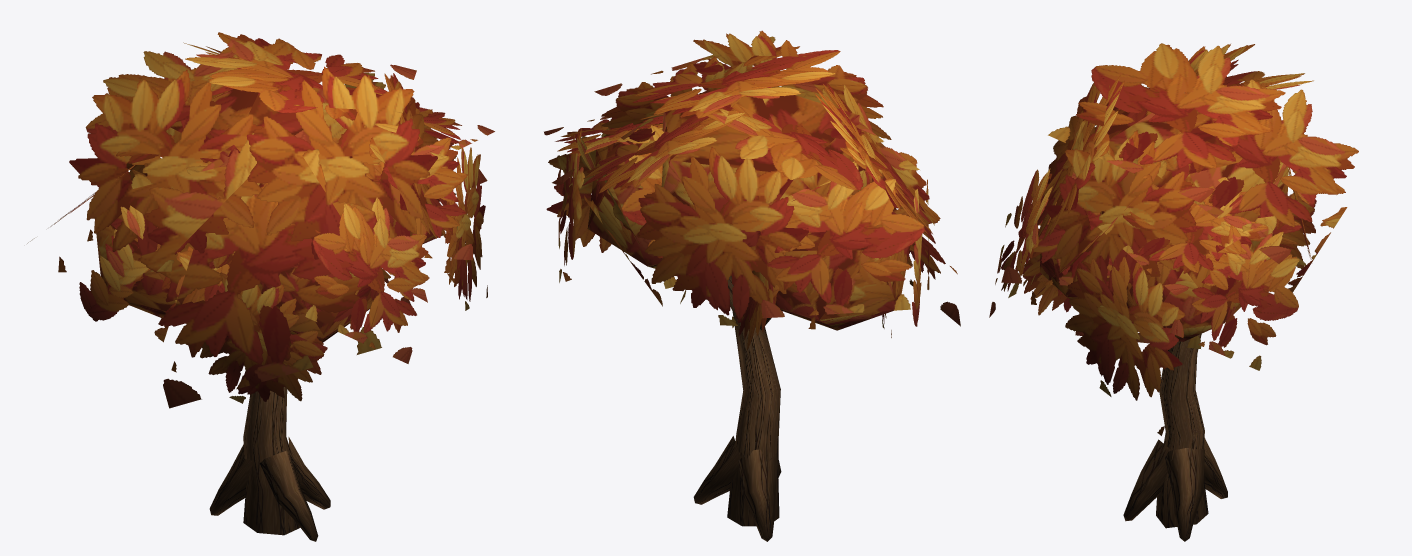
The model's file is tree_autumn_a_lod1.glb.
3 views of the same model, side by side, from view 1: azimuth 30°, elevation 25°; view 2: azimuth 150°, elevation 25°; view 3: azimuth 270°, elevation 25° (orthographic). The views are drawn at different scales.
Visible parts, largest first — view 1: tree_autumn_a_lod1; view 2: tree_autumn_a_lod1; view 3: tree_autumn_a_lod1.
Boxes of the visible parts, x1,y1,x2,y2 form: tree_autumn_a_lod1: (27,32,494,541); tree_autumn_a_lod1: (544,30,960,541); tree_autumn_a_lod1: (989,43,1358,541).
Size of the model in its own units: 3.74 by 4.02 by 3.17.
2 materials, 2 textured.
